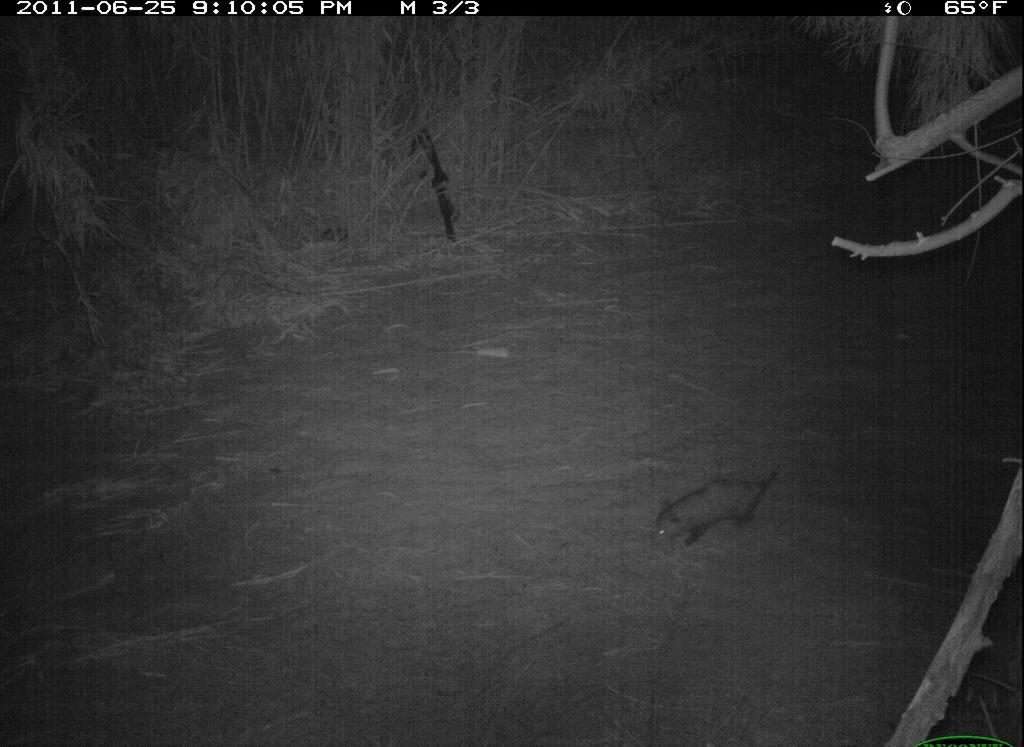opossum: (639, 462, 790, 556)
